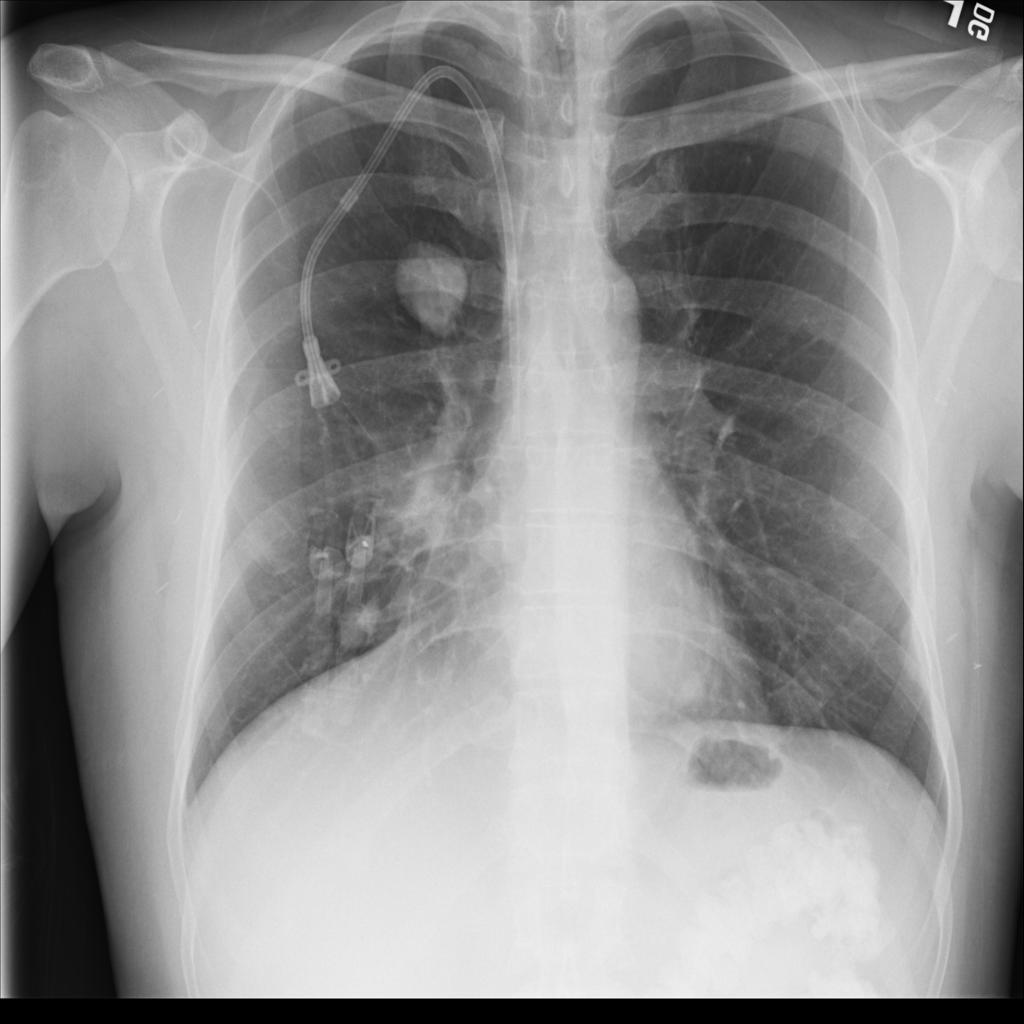nodule: (386, 222, 484, 343), (666, 661, 714, 714)
